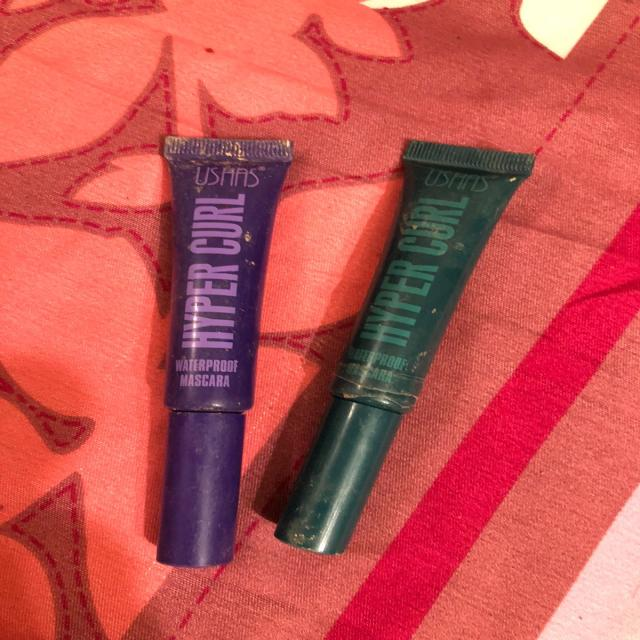Tint: (269, 130, 579, 564), (129, 109, 290, 574)
